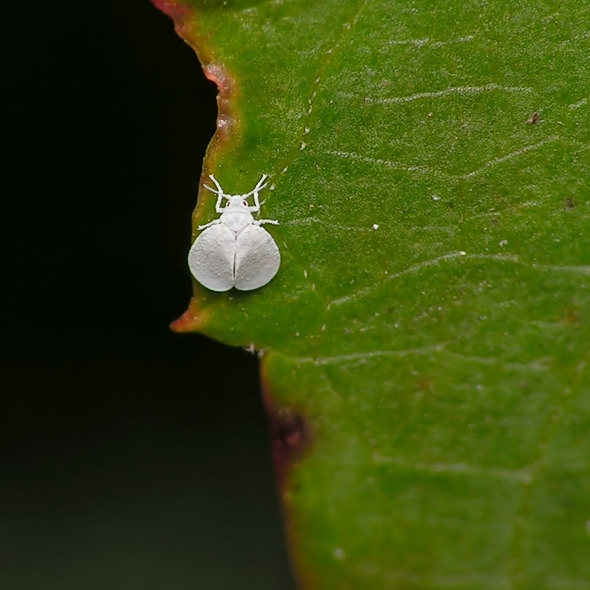whitefly: (189, 177, 283, 292)
